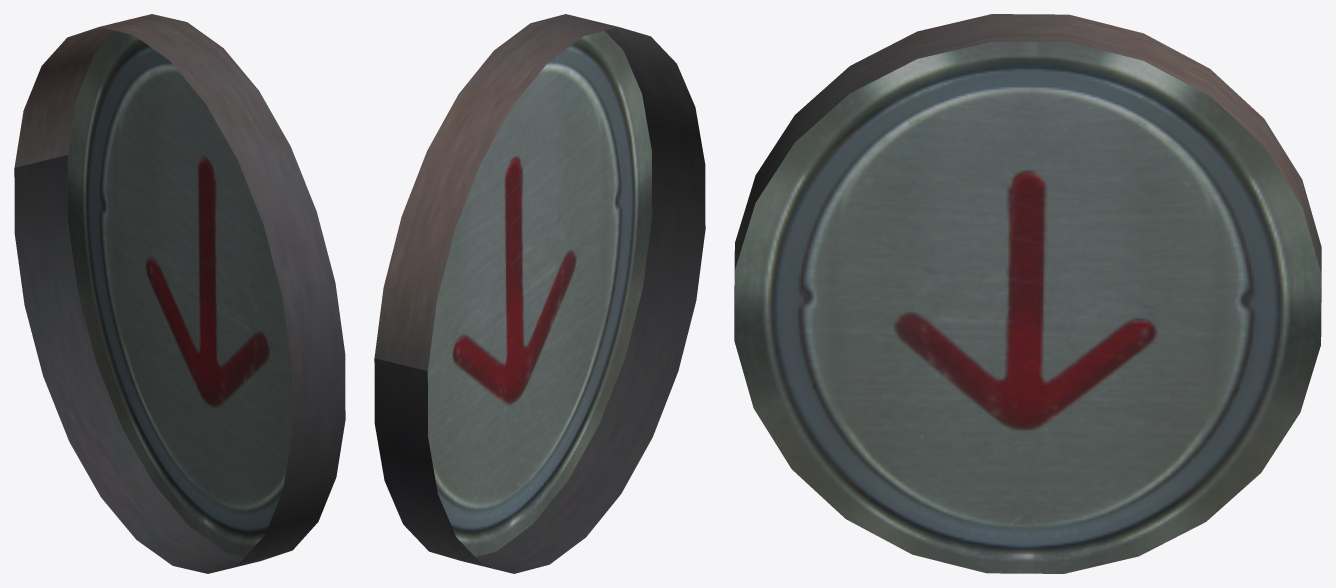
The model's file is Elev_Down_Btn.fbx.
3 views of the same model, side by side, from view 1: azimuth 30°, elevation 25°; view 2: azimuth 150°, elevation 25°; view 3: azimuth 270°, elevation 25° (orthographic). The views are drawn at different scales.
Parts seen in each view (by area): view 1: Cylinder (35); view 2: Cylinder (35); view 3: Cylinder (35).
Boxes of the visible parts, box(x1,y1,x2,y2) form: Cylinder (35): box(14, 14, 345, 573); Cylinder (35): box(374, 14, 705, 573); Cylinder (35): box(734, 14, 1321, 573).
Bounding box in the file's own units: 0.5016 × 4.53 × 4.53.
